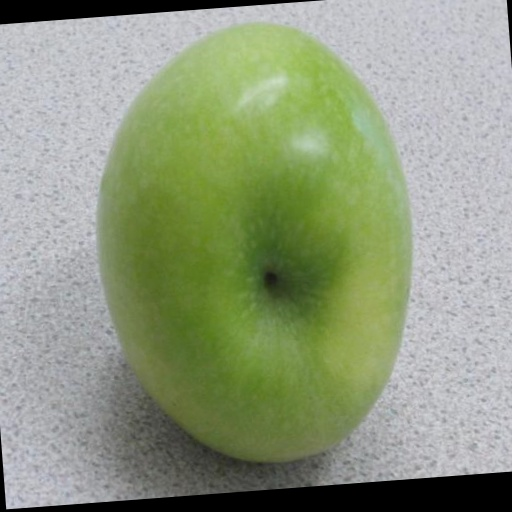fruit: (98, 23, 411, 462)
